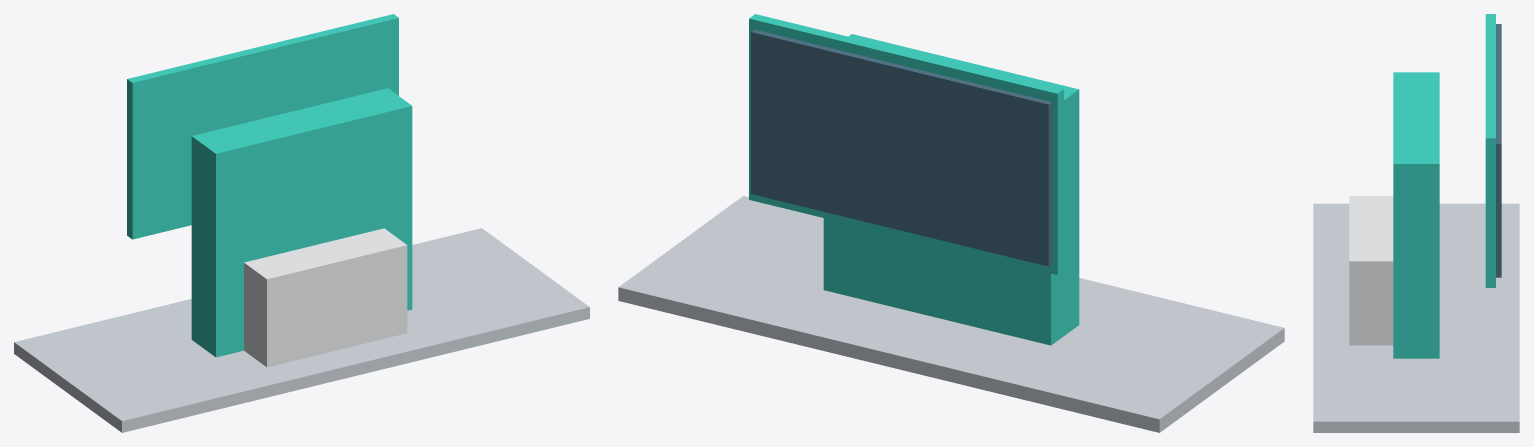
3 renders of one model, left to right at view 1: azimuth 30°, elevation 25°; view 2: azimuth 150°, elevation 25°; view 3: azimuth 270°, elevation 25°, orthographic. The views are drawn at different scales.
Visible parts, largest first — view 1: Exhibition Booth Concept; view 2: Exhibition Booth Concept; view 3: Exhibition Booth Concept.
Part boxes in pixels (x1,y1,x2,y2): Exhibition Booth Concept: [14, 14, 589, 432]; Exhibition Booth Concept: [618, 14, 1284, 432]; Exhibition Booth Concept: [1313, 14, 1519, 432].
Size of the model in its own units: 5 by 2.65 by 2.
